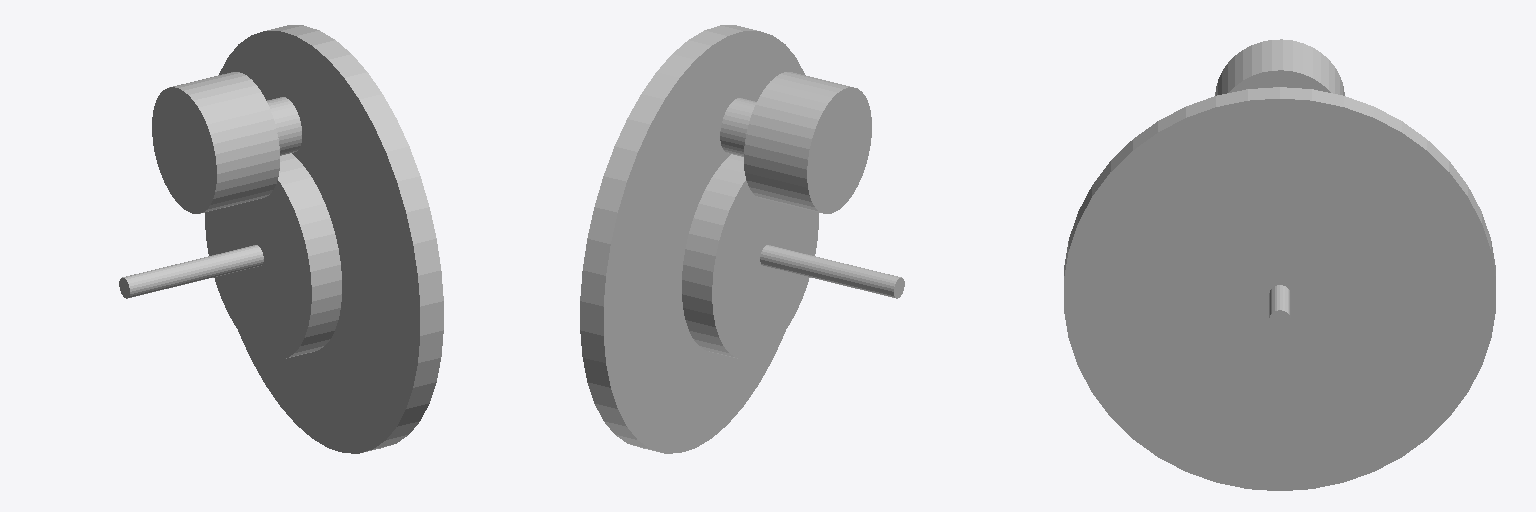
File: Gondel v1.obj
The picture shows the model from 3 angles: view 1: azimuth 30°, elevation 25°; view 2: azimuth 150°, elevation 25°; view 3: azimuth 270°, elevation 25°; orthographic projection.
Parts seen in each view (by area): view 1: Body5, Großes zahnrad, Motor, Achse, Kleines Zahnrad; view 2: Body5, Großes zahnrad, Motor, Achse, Kleines Zahnrad; view 3: Body5, Motor, Achse.
Boxes of the visible parts, x1=… form: Body5: x1=219, y1=25, x2=443, y2=453; Großes zahnrad: x1=205, y1=153, x2=341, y2=359; Motor: x1=152, y1=72, x2=279, y2=213; Achse: x1=119, y1=245, x2=263, y2=298; Kleines Zahnrad: x1=267, y1=97, x2=301, y2=155; Body5: x1=580, y1=25, x2=805, y2=453; Großes zahnrad: x1=682, y1=154, x2=818, y2=359; Motor: x1=744, y1=72, x2=871, y2=213; Achse: x1=760, y1=245, x2=904, y2=298; Kleines Zahnrad: x1=720, y1=98, x2=756, y2=156; Body5: x1=1064, y1=87, x2=1495, y2=490; Motor: x1=1215, y1=39, x2=1344, y2=95; Achse: x1=1269, y1=285, x2=1290, y2=329.
Bounding box in the file's own units: 56 × 80 × 79.78.